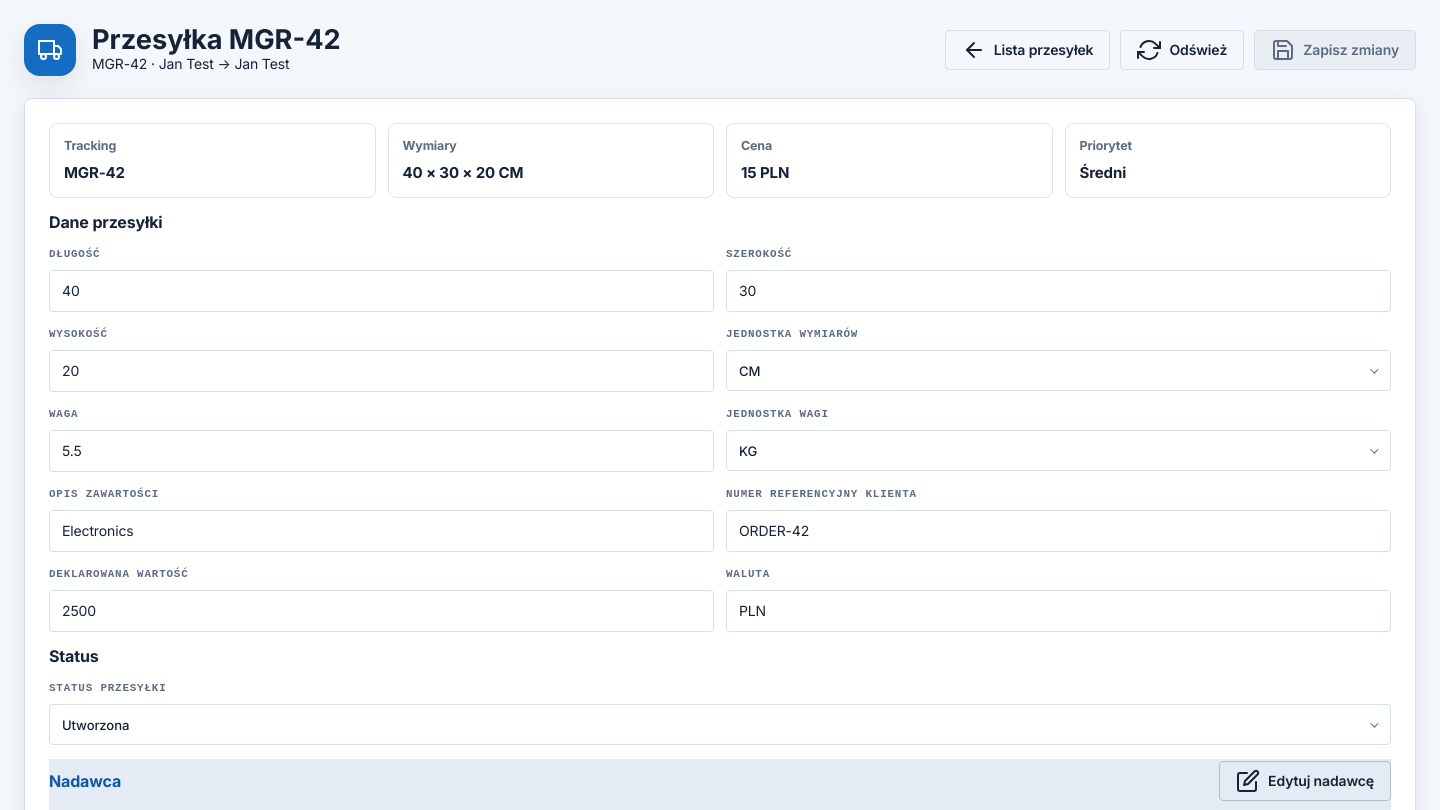
Scenario: ShipmentEdit parcel details › rejects zero dimensions before sending the update
The width and height of the screenshot is (1440, 810).
Replace the text in the number field labelled "Długość" with "0" at (382, 291), box x1=49 y1=270 x2=714 y2=312
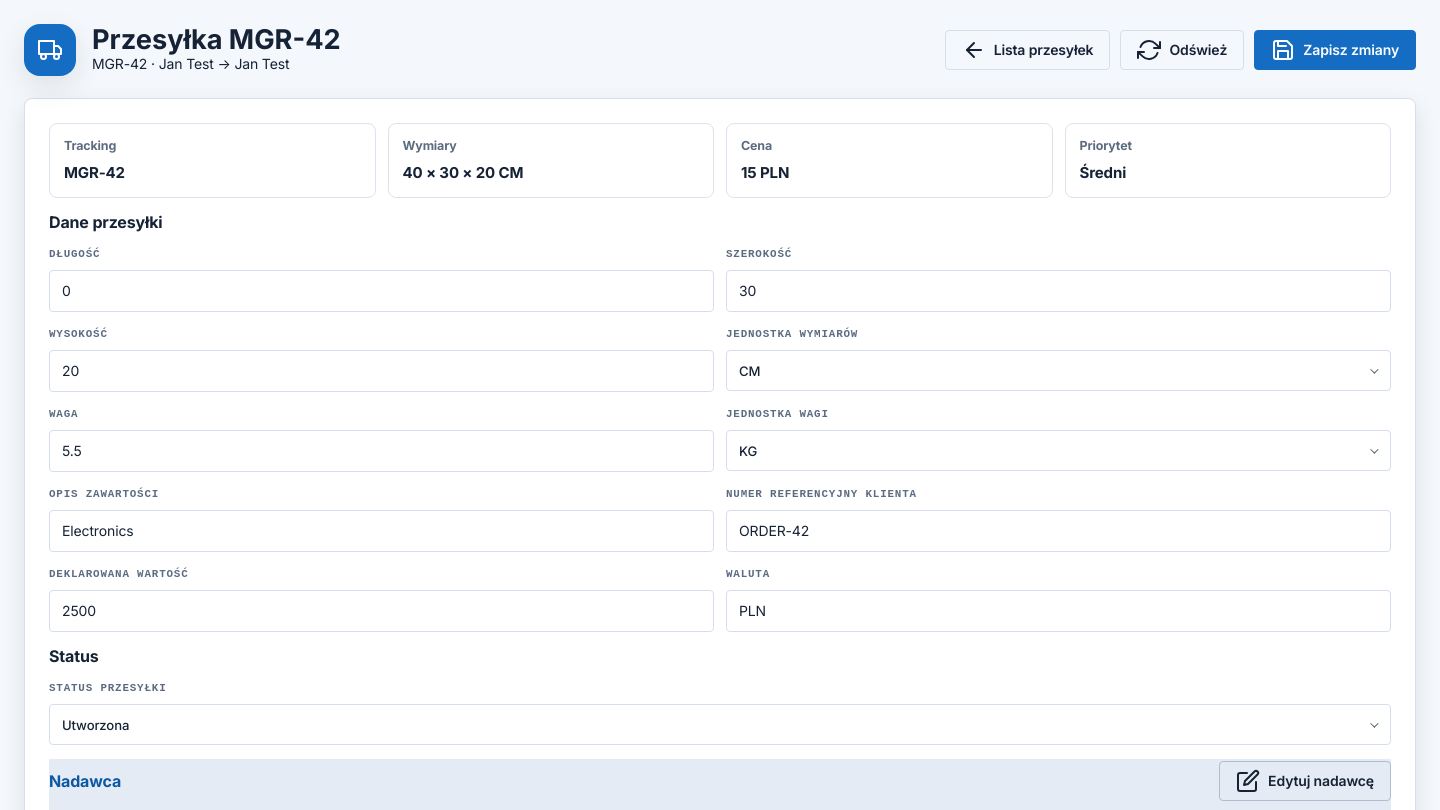
Click the button "Zapisz zmiany" at (1335, 50), box x1=1254 y1=30 x2=1416 y2=70
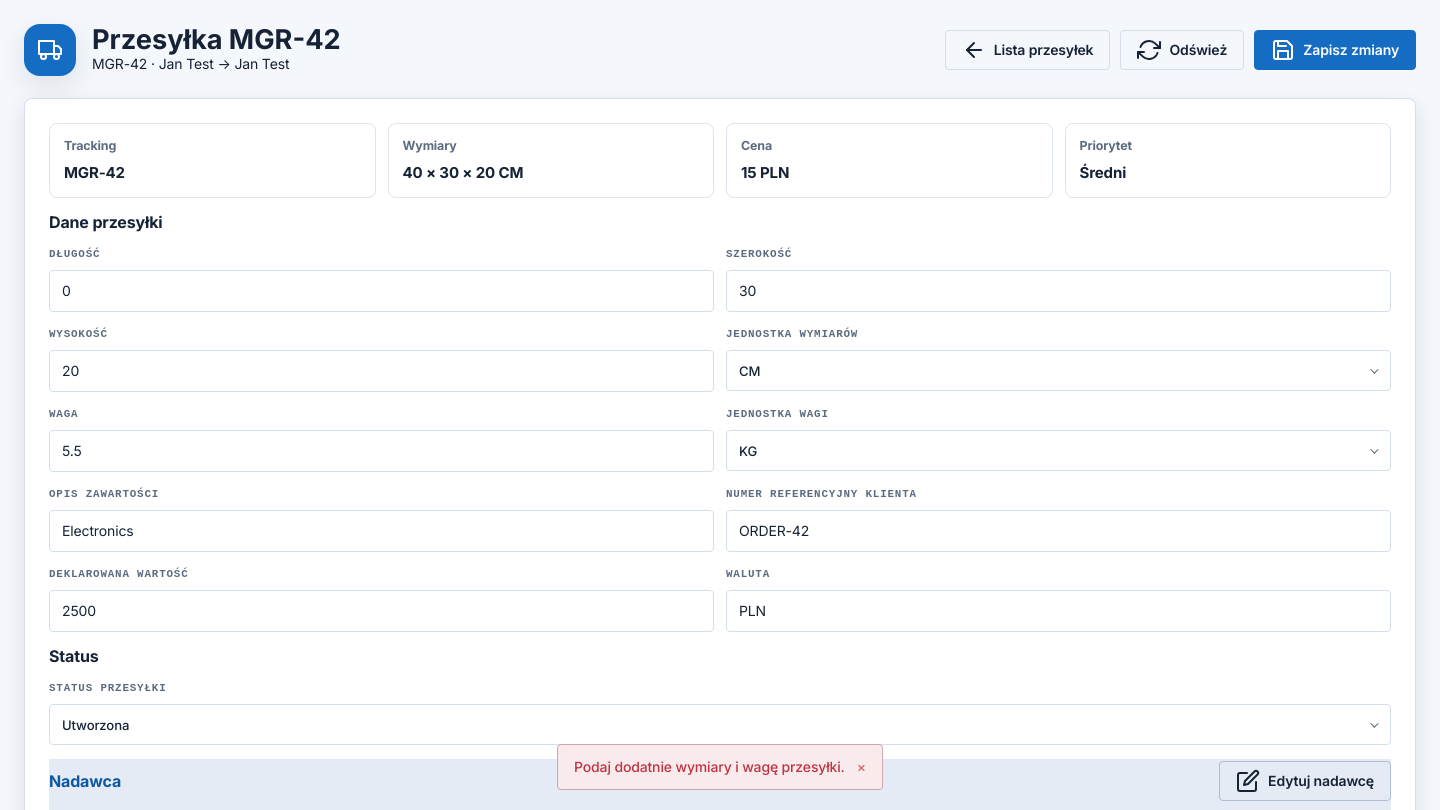
Expected: the text "Podaj dodatnie wymiary i wagę przesyłki." is shown, x1=574 y1=757 x2=845 y2=777
